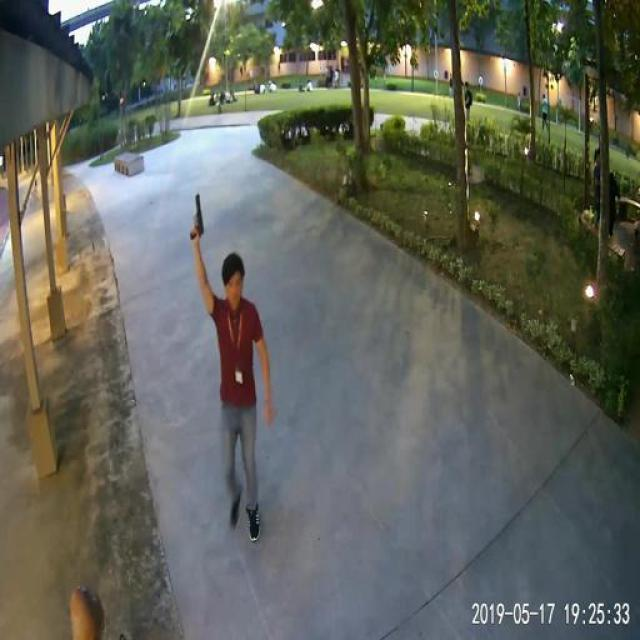Gun: (179, 187, 220, 248)
